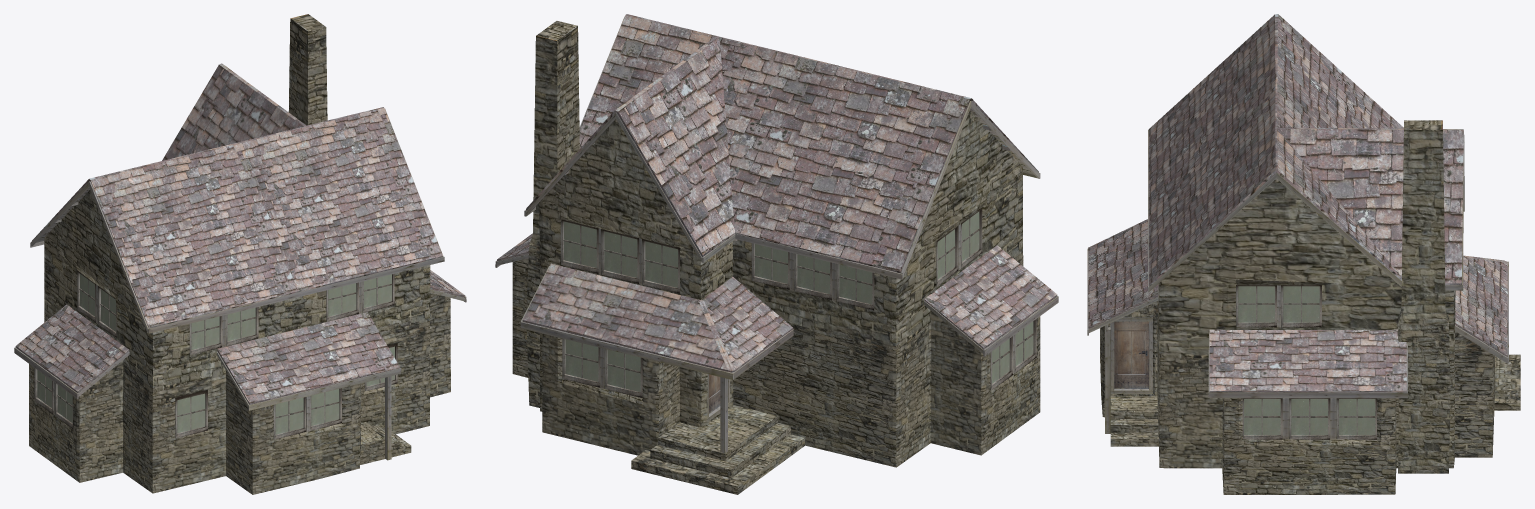
File: stoneHouse3.fbx
The picture shows the model from 3 angles, left to right: view 1: azimuth 30°, elevation 25°; view 2: azimuth 150°, elevation 25°; view 3: azimuth 270°, elevation 25°; orthographic projection. The views are drawn at different scales.
Visible parts, largest first — view 1: roof, base, second floor, steps; view 2: second floor, roof, base, steps; view 3: second floor, base, roof, steps, door.back.
Boxes of the visible parts, box(x1,y1,x2,y2) form: roof: box(30, 63, 444, 333); base: box(29, 14, 450, 494); second floor: box(14, 189, 466, 410); steps: box(360, 422, 411, 464); second floor: box(495, 110, 1058, 379); roof: box(524, 14, 1040, 279); base: box(512, 21, 1040, 467); steps: box(631, 405, 804, 494); second floor: box(1087, 180, 1508, 398); base: box(1100, 120, 1494, 494); roof: box(1148, 14, 1464, 292); steps: box(1110, 354, 1520, 446); door.back: box(1114, 321, 1148, 388).
Size of the model in its own units: 17.67 by 13.66 by 15.65.
